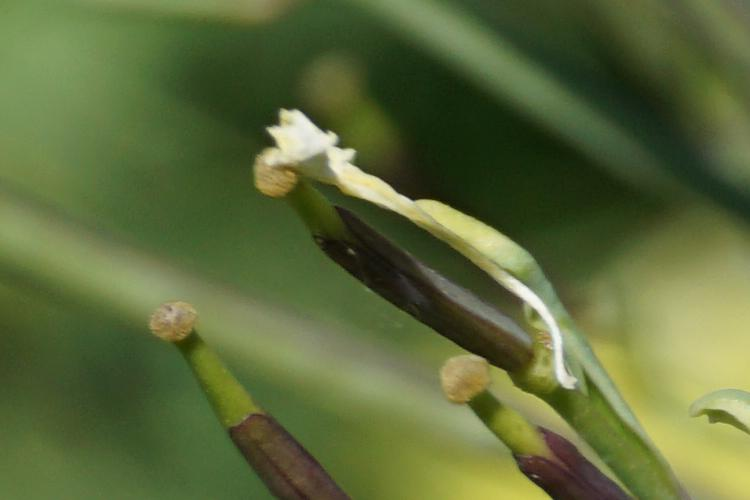pod: (254, 125, 559, 366), (136, 297, 349, 494), (432, 351, 637, 498)
